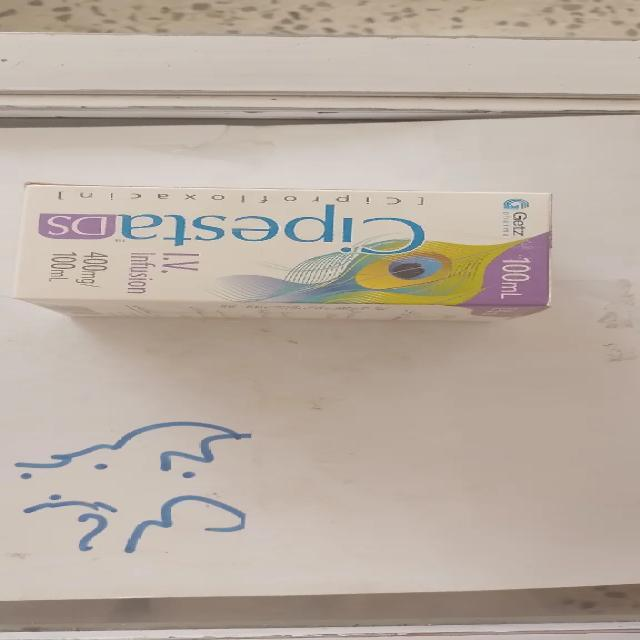drug-name: (50, 204, 428, 262)
